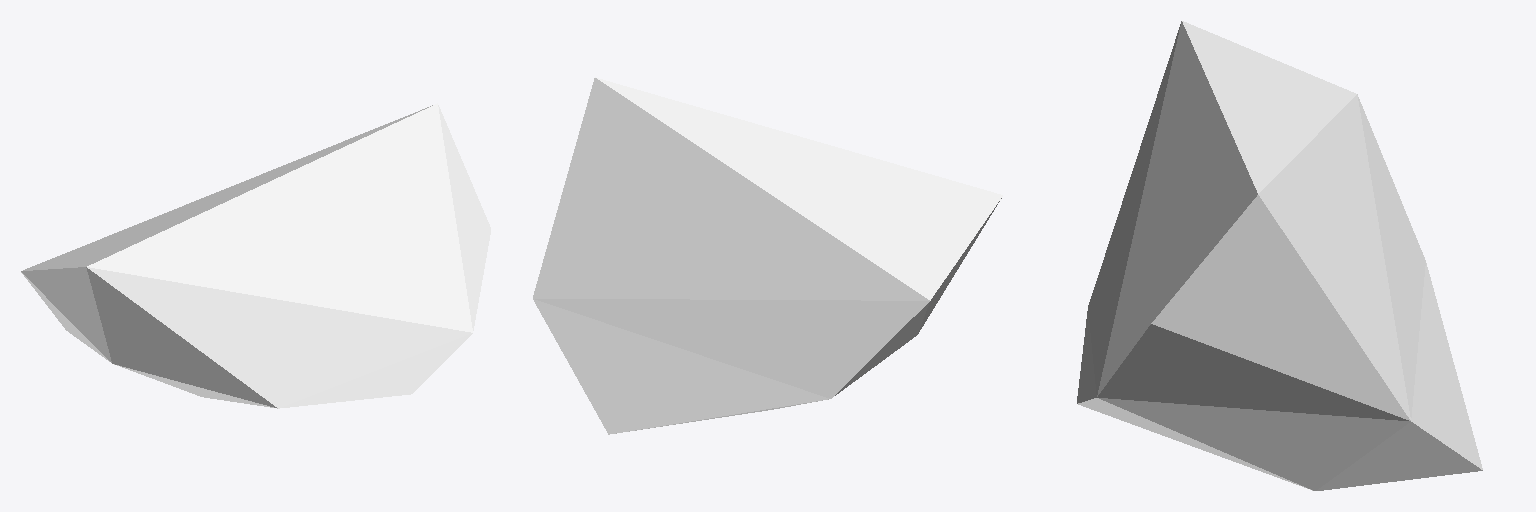
robot.urdf — solo_RFleg_rom:
<robot name="solo_RFleg_rom">
  <link name="base_link">
    <visual>
      <origin xyz="0 0 0" rpy="0 0 0" />
      <geometry>
        <mesh filename="package://solo-rbprm/meshes/FRleg_rom_reduced.stl"/>
      </geometry>
      <material name="white">
        <color rgba="1 1 1 1"/>
      </material>
    </visual>
    <collision>
      <origin xyz="0 0 0" rpy="0 0 0" />
      <geometry>
        <mesh filename="package://solo-rbprm/meshes/FRleg_rom_reduced.stl"/>
      </geometry>
    </collision>
  </link>
</robot>

--- What the picture shows (computed from the rendered views, not written in the file) ---
Views: 3 orthographic renders of the robot side by side, from view 1: azimuth 30°, elevation 25°; view 2: azimuth 150°, elevation 25°; view 3: azimuth 270°, elevation 25°.
Model solo_RFleg_rom with 1 links and 0 joints (none), rooted at base_link, posed every joint at zero.
Links seen in each view (by area): view 1: base_link; view 2: base_link; view 3: base_link.
Boxes of the visible links, x1=… form: base_link: x1=21, y1=103, x2=490, y2=408; base_link: x1=533, y1=77, x2=1002, y2=434; base_link: x1=1077, y1=21, x2=1482, y2=490.
Size in the robot's own frame: 0.4289 by 0.3055 by 0.2939 metres.
1 mesh visuals loaded from 1 distinct referenced files (1 binary STL).
